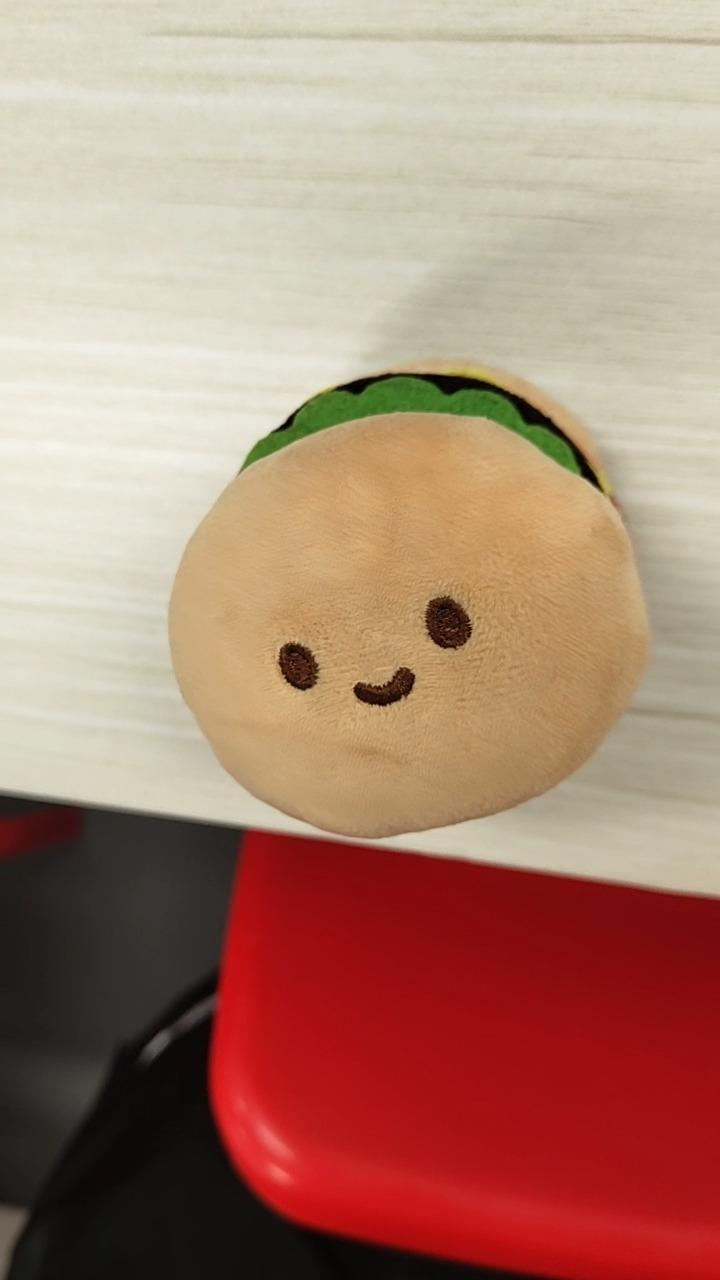hamburger: (165, 358, 651, 841)
